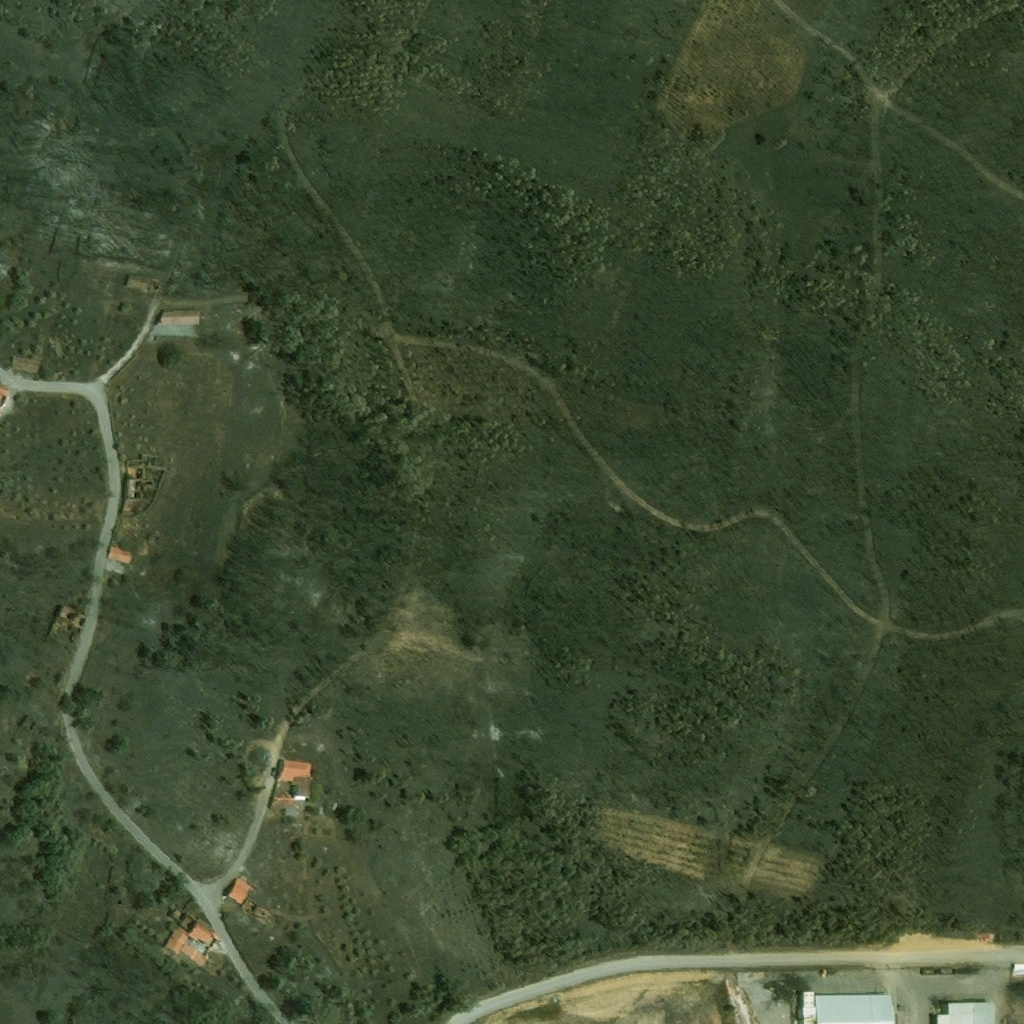0 no-damage: (797, 990, 895, 1023), (164, 927, 209, 966), (278, 759, 312, 798), (935, 1002, 997, 1023), (228, 877, 253, 904), (189, 921, 217, 945), (160, 309, 199, 323), (12, 357, 40, 373), (107, 546, 133, 563)
2 major-damage: (125, 274, 159, 290), (272, 797, 306, 811)
3 destroyed: (241, 897, 276, 924), (123, 464, 142, 510), (57, 606, 87, 631), (179, 914, 197, 932), (170, 906, 188, 922)
4 un-classified: (0, 386, 9, 398)
